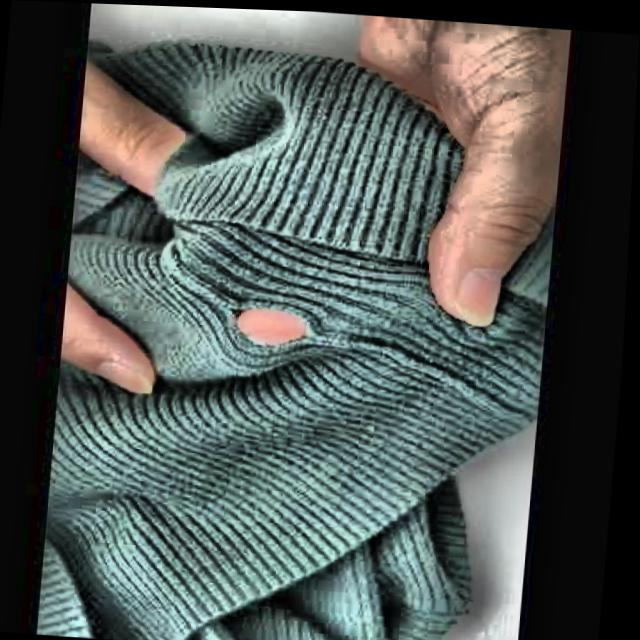seam: (188, 269, 357, 388)
